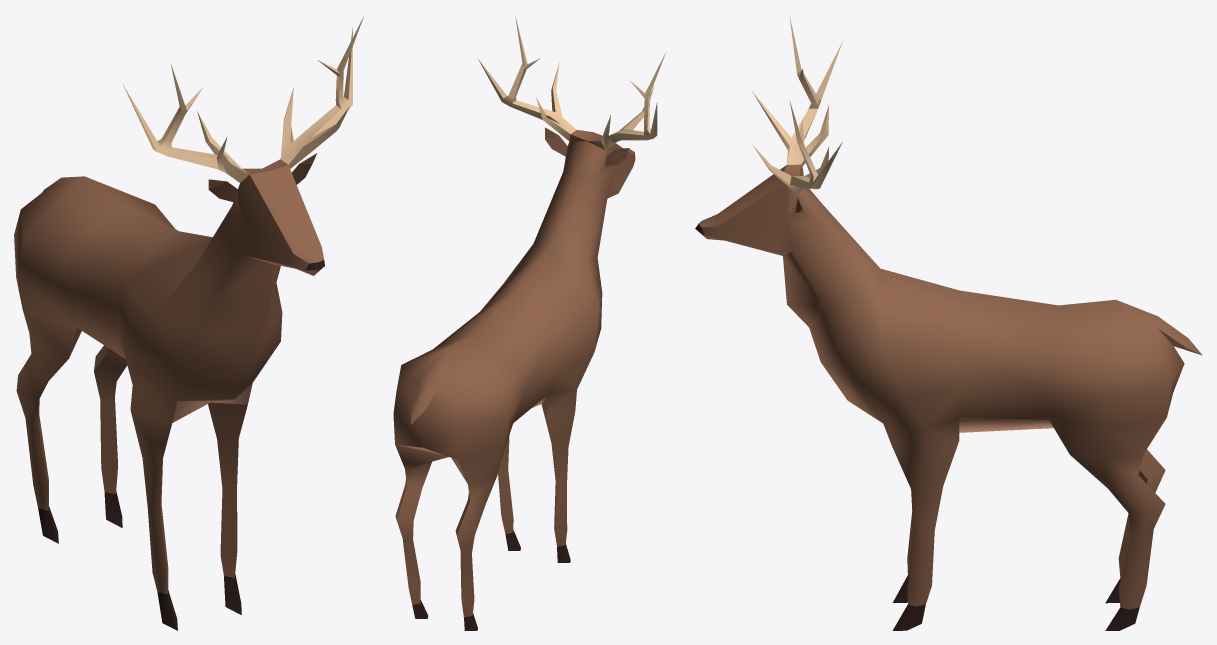
Rendered from deer-ver2.glb.
3 renders of one model, left to right at view 1: azimuth 30°, elevation 25°; view 2: azimuth 150°, elevation 25°; view 3: azimuth 270°, elevation 25°, orthographic. The views are drawn at different scales.
Parts seen in each view (by area): view 1: Deer-ver2; view 2: Deer-ver2; view 3: Deer-ver2.
Boxes of the visible parts, x1,y1,x2,y2 form: Deer-ver2: (14,15,364,630); Deer-ver2: (393,16,665,630); Deer-ver2: (695,16,1202,630).
Size of the model in its own units: 0.8518 by 2.21 by 1.81.
Materials: 1 (1 with a texture image).
